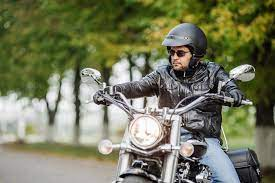com_capacete: (159, 22, 210, 74)
